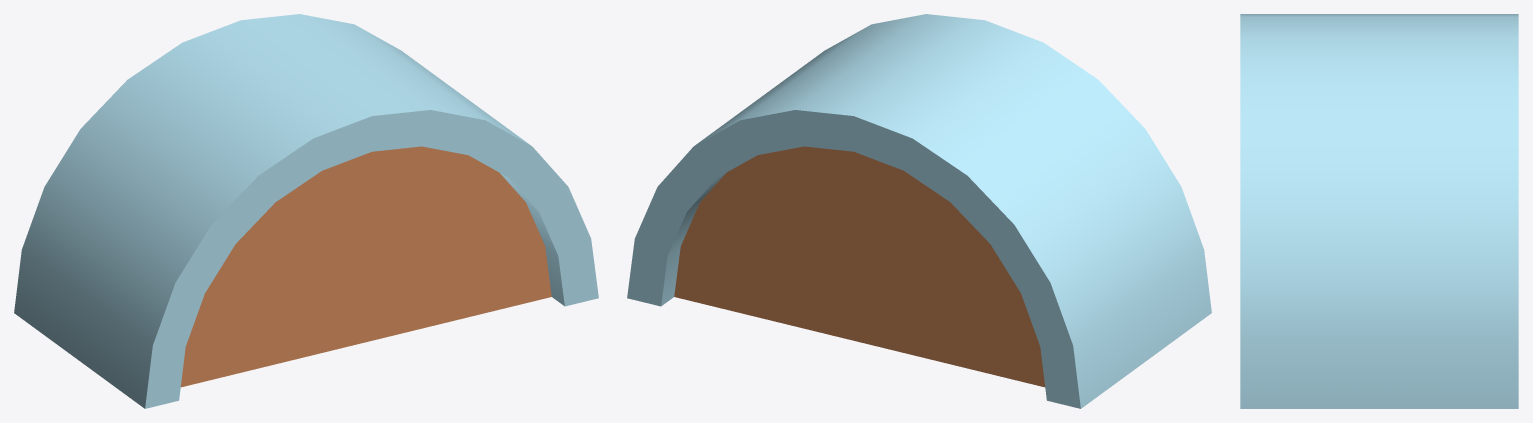
Rendered from blockSnowCurve.glb.
The picture shows the model from 3 angles, left to right: view 1: azimuth 30°, elevation 25°; view 2: azimuth 150°, elevation 25°; view 3: azimuth 270°, elevation 25°; orthographic projection. The views are drawn at different scales.
Parts seen in each view (by area): view 1: blockSnowCurve; view 2: blockSnowCurve; view 3: blockSnowCurve.
Part boxes in pixels (x1,y1,x2,y2): blockSnowCurve: (14,14,598,408); blockSnowCurve: (627,14,1211,408); blockSnowCurve: (1240,14,1518,408).
Bounding box in the file's own units: 2 × 1 × 1.
